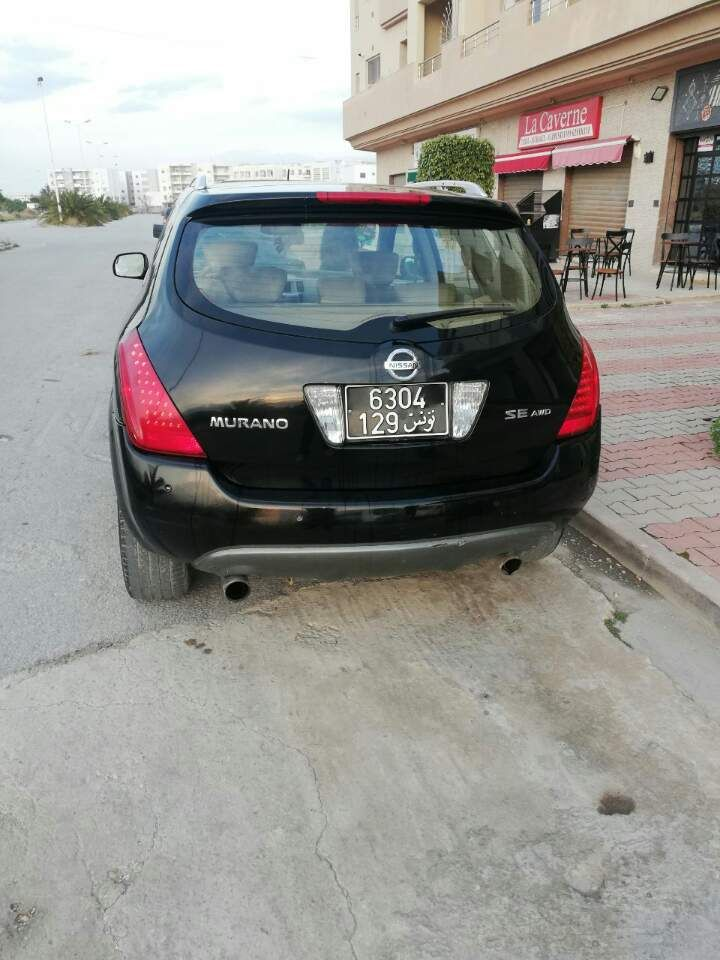LP: (340, 379, 459, 441)
